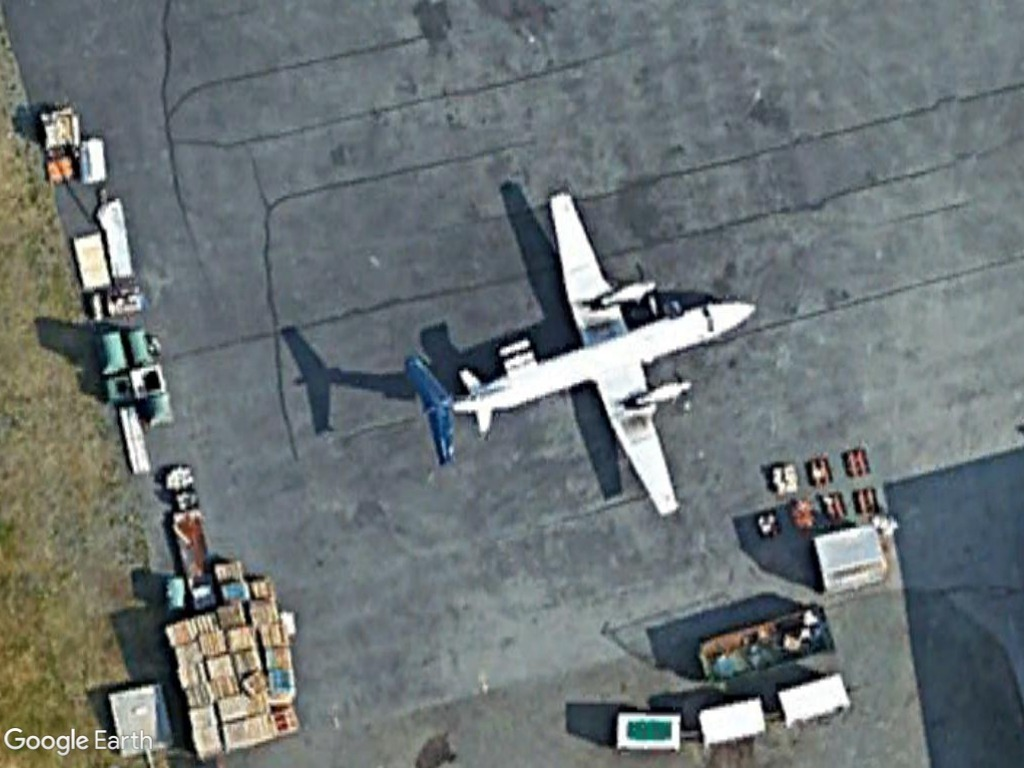propeller: (389, 154, 780, 525)
